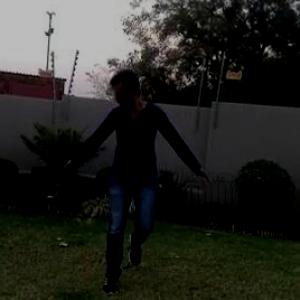land: (58, 61, 218, 299)
